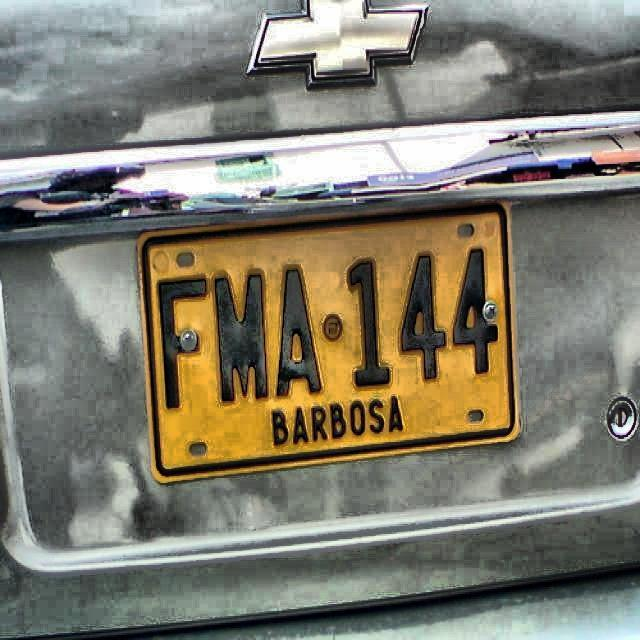plate: (138, 199, 522, 485)
